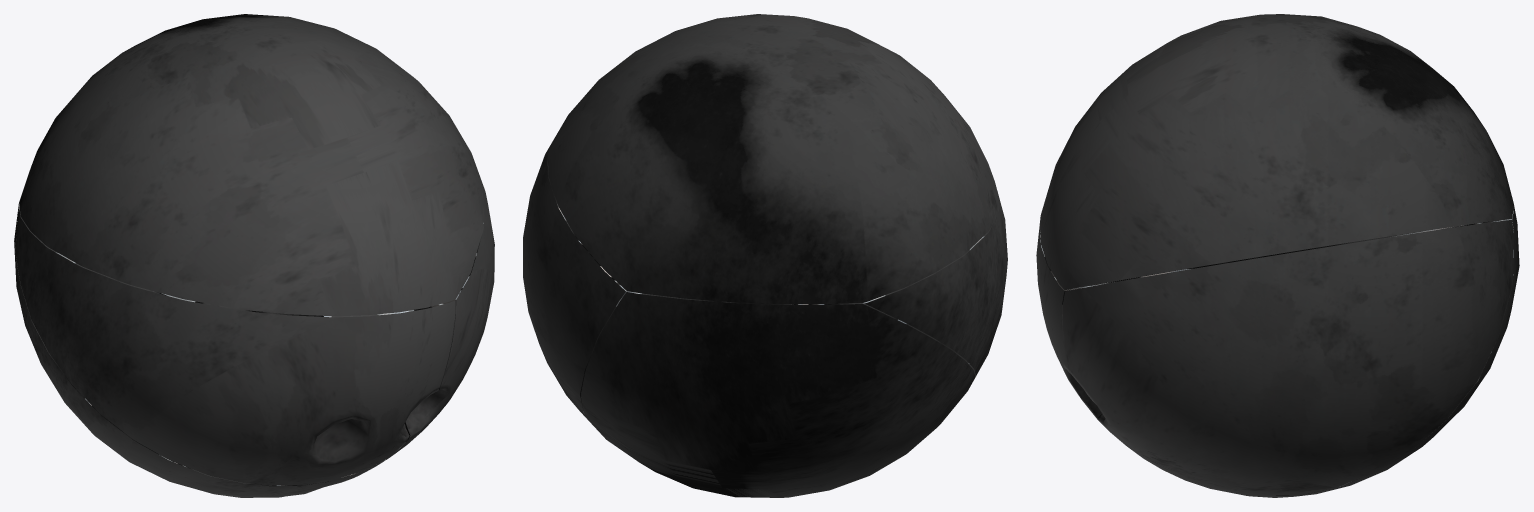
File: projectile1_fractured.glb
The picture shows the model from 3 angles, left to right: view 1: azimuth 30°, elevation 25°; view 2: azimuth 150°, elevation 25°; view 3: azimuth 270°, elevation 25°; orthographic projection.
Visible parts, largest first — view 1: ball-phys-dynamic_cell.002, ball-phys-dynamic_cell.003, ball-phys-dynamic_cell.001, ball-phys-dynamic_cell; view 2: ball-phys-dynamic_cell.002, ball-phys-dynamic_cell.001, ball-phys-dynamic_cell, ball-phys-dynamic_cell.003; view 3: ball-phys-dynamic_cell.002, ball-phys-dynamic_cell, ball-phys-dynamic_cell.003, ball-phys-dynamic_cell.001.
Part boxes in pixels (x1,y1,x2,y2): ball-phys-dynamic_cell.002: [19, 14, 483, 316]; ball-phys-dynamic_cell.003: [15, 204, 455, 485]; ball-phys-dynamic_cell.001: [14, 209, 385, 497]; ball-phys-dynamic_cell: [385, 170, 494, 459]; ball-phys-dynamic_cell.002: [547, 14, 999, 304]; ball-phys-dynamic_cell.001: [581, 291, 975, 497]; ball-phys-dynamic_cell: [523, 133, 627, 424]; ball-phys-dynamic_cell.003: [860, 187, 1007, 376]; ball-phys-dynamic_cell.002: [1039, 14, 1513, 289]; ball-phys-dynamic_cell: [1062, 220, 1513, 495]; ball-phys-dynamic_cell.003: [1036, 226, 1102, 424]; ball-phys-dynamic_cell.001: [1193, 187, 1519, 497].
Size of the model in its own units: 1 by 1 by 1.
Materials: 1 (1 with a texture image).
